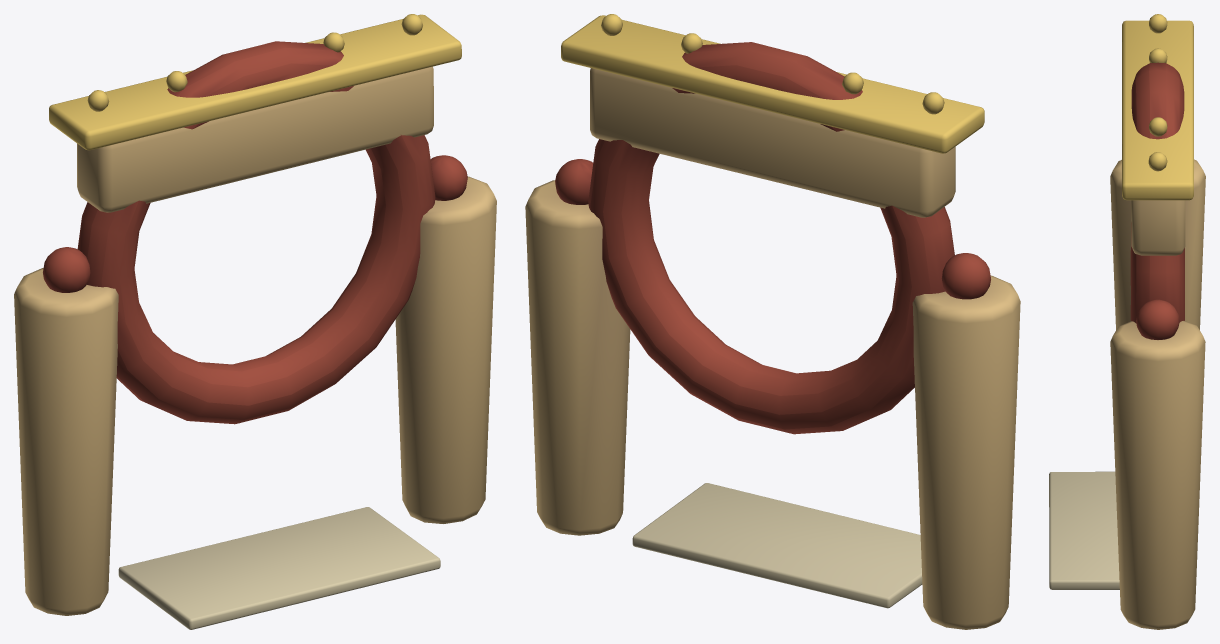
The picture shows the model from 3 angles, left to right: view 1: azimuth 30°, elevation 25°; view 2: azimuth 150°, elevation 25°; view 3: azimuth 270°, elevation 25°; orthographic projection. The views are drawn at different scales.
Parts seen in each view (by area): view 1: gate_11d2dbe2; view 2: gate_11d2dbe2; view 3: gate_11d2dbe2.
Boxes of the visible parts, bbox=[...] form: gate_11d2dbe2: bbox=[14, 14, 496, 629]; gate_11d2dbe2: bbox=[525, 14, 1020, 629]; gate_11d2dbe2: bbox=[1049, 14, 1205, 629].
Size of the model in its own units: 4.48 by 4.63 by 1.44.
